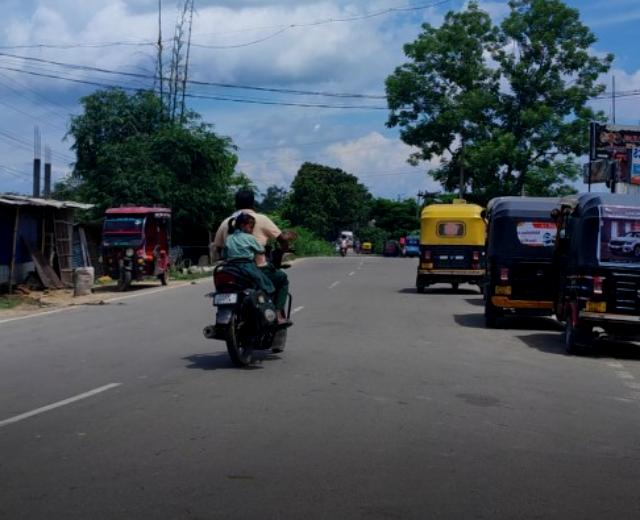licensePlate: (210, 293, 238, 309)
motorcycle: (201, 182, 298, 369)
withoutHelmet: (223, 213, 259, 235), (228, 188, 256, 210)
